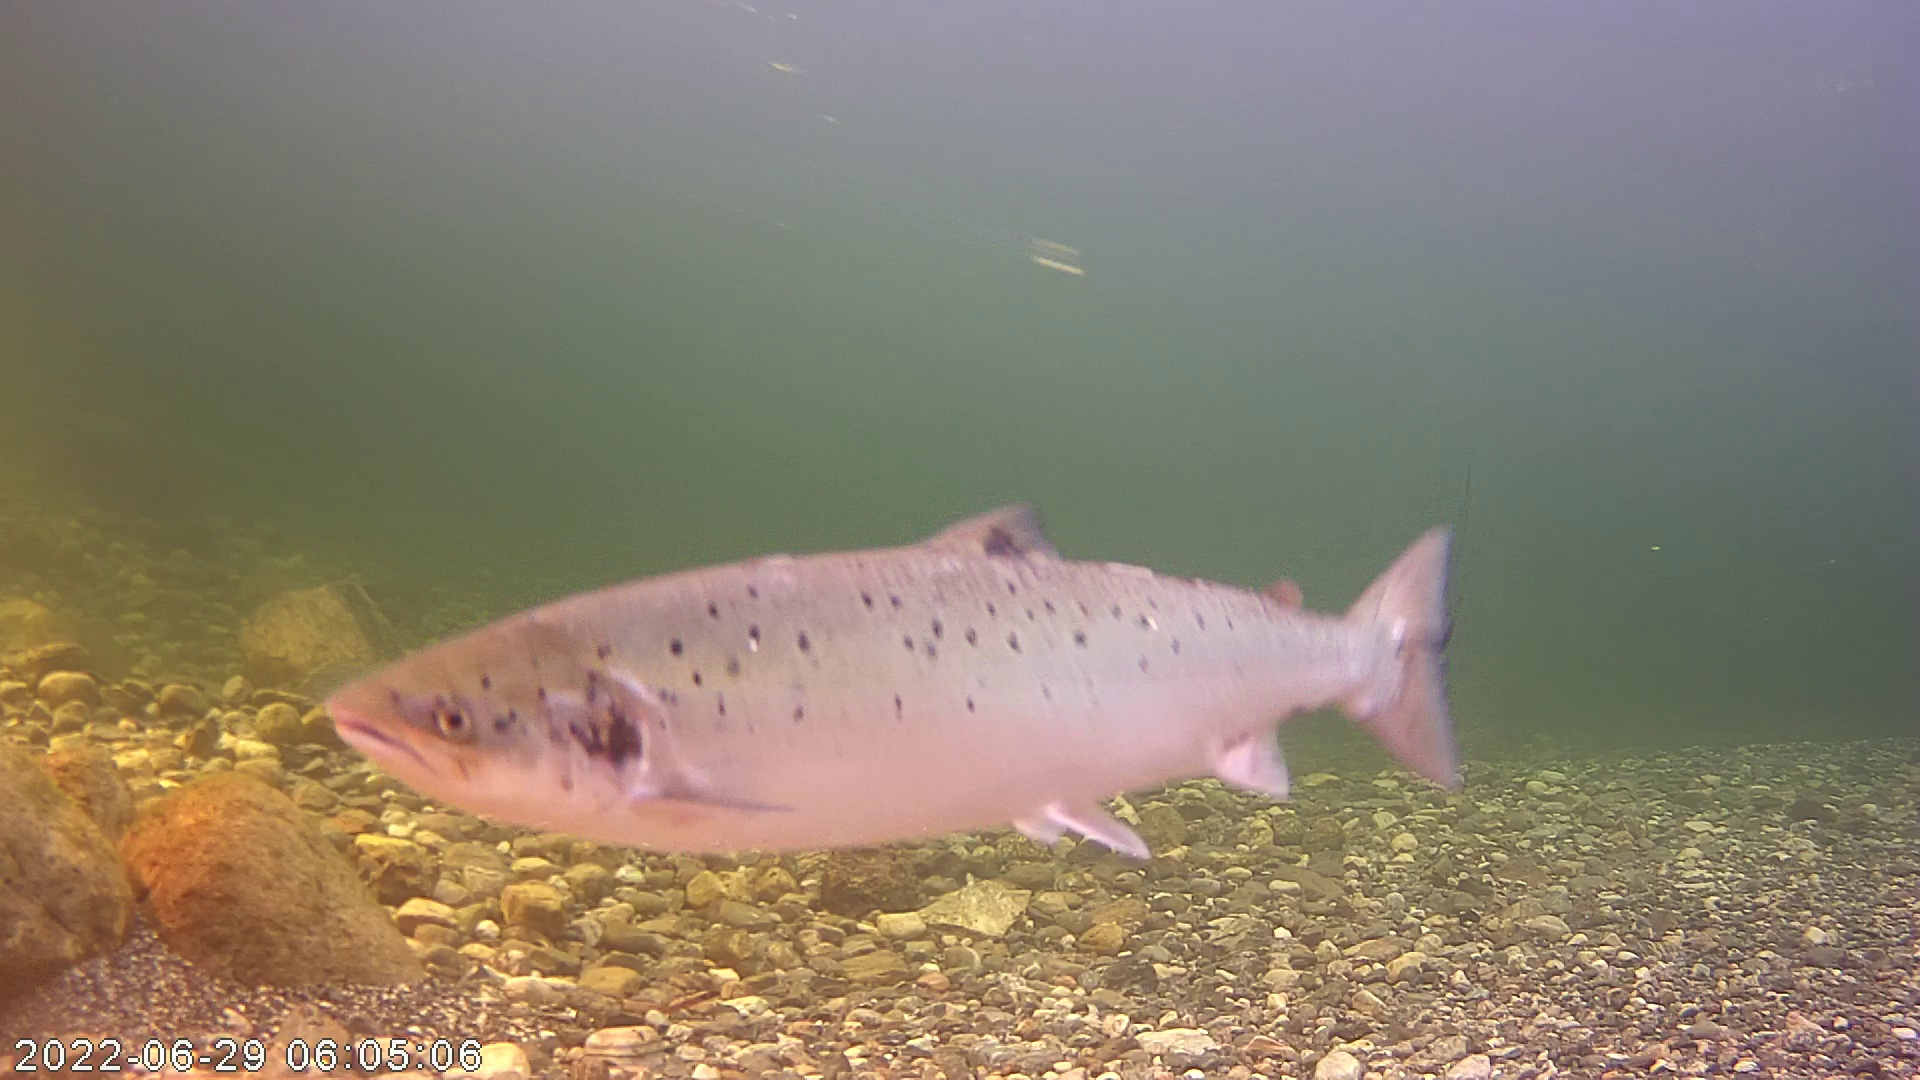salmon: (320, 493, 1469, 861)
